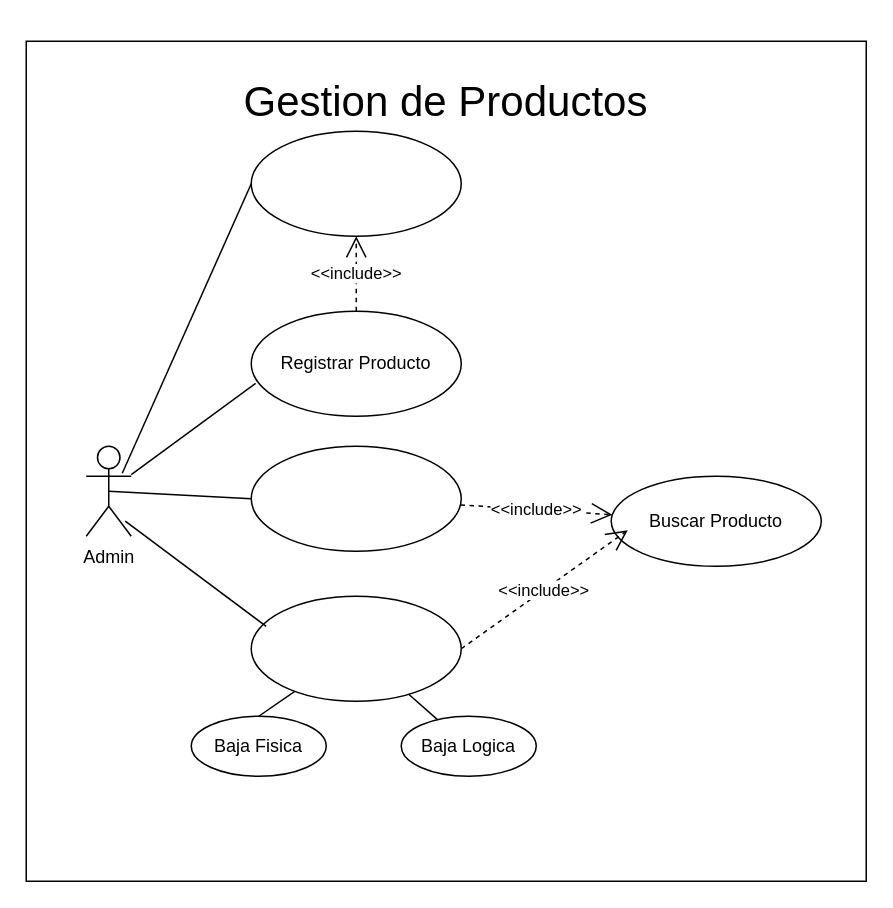
The diagram is 893 pixels wide and 908 high, and some of its shapes have lost their labels. The shapes that lost their labels are listed below. From the top down, each one's centre as x and y in pixels, then its label:
(x=355, y=183): Crear Categoria
(x=355, y=498): Editar producto
(x=355, y=648): Eliminar Producto
